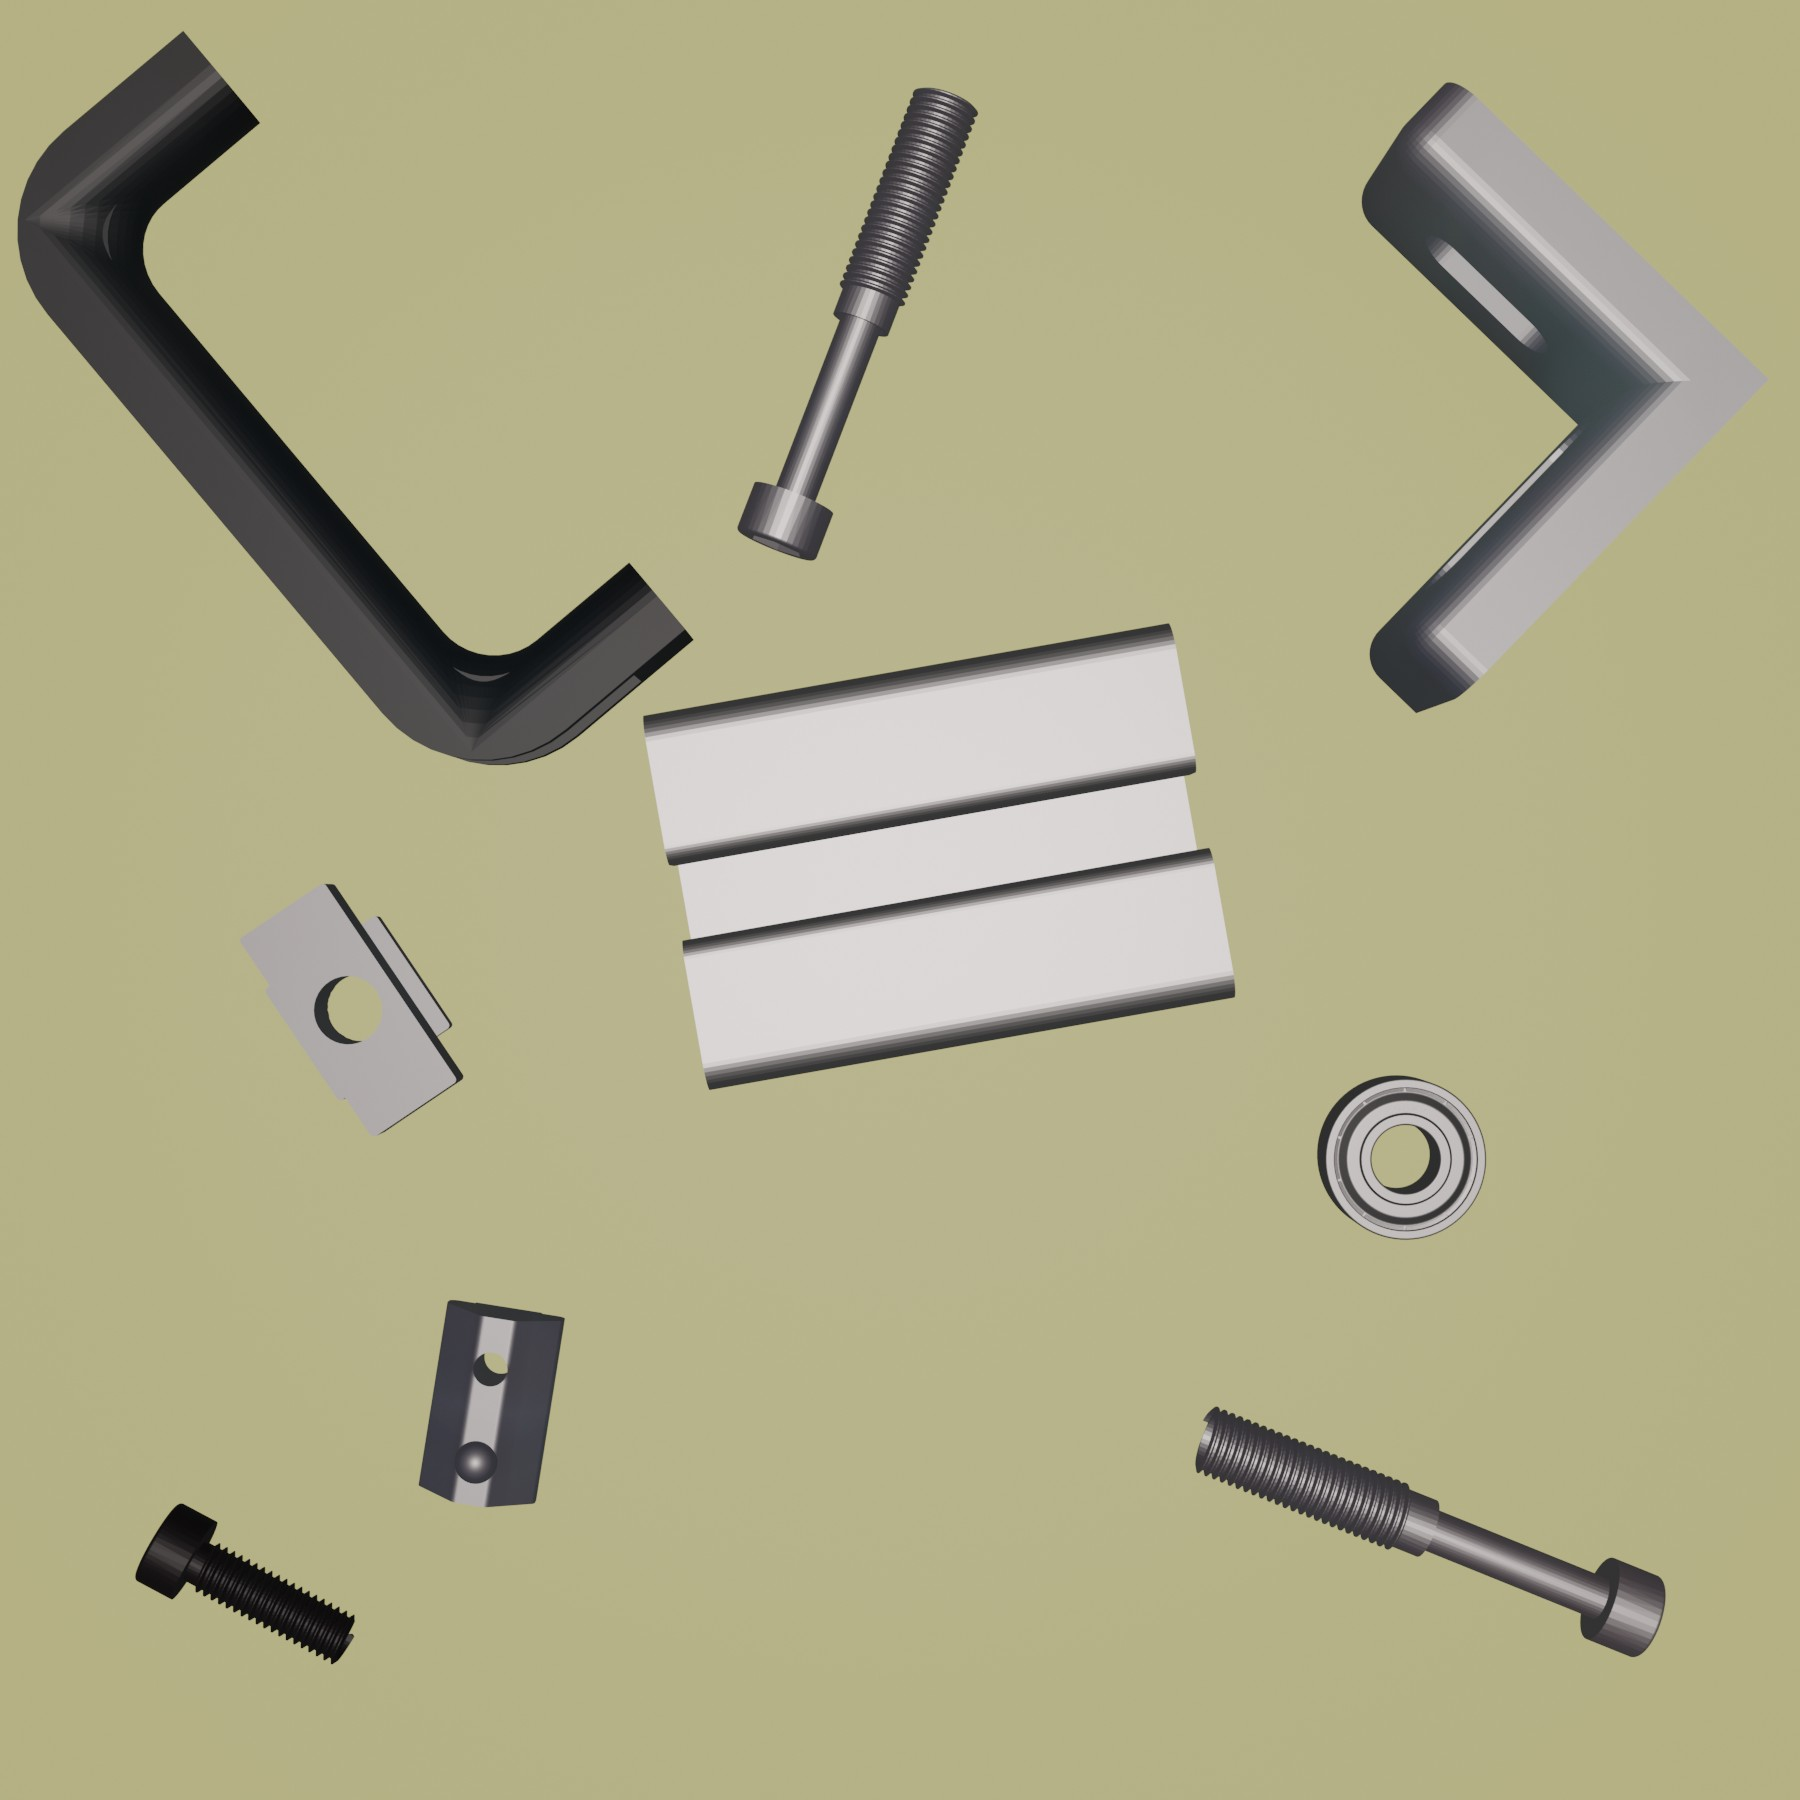Aluminium Extension: (640, 618, 1240, 1093)
Ball Bearing: (1315, 1071, 1488, 1241)
Multiwinkel: (1362, 81, 1770, 715)
Pull Handle: (13, 25, 696, 766)
Shoulder Socket Head Cap Screw: (1190, 1408, 1666, 1662), (735, 82, 977, 569)
Socket Head Cap Screw: (129, 1502, 356, 1665)
T Nut Square: (236, 877, 466, 1137)
T Spring Nut: (417, 1296, 569, 1512)
